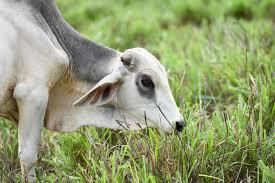cow: (0, 0, 183, 182)
